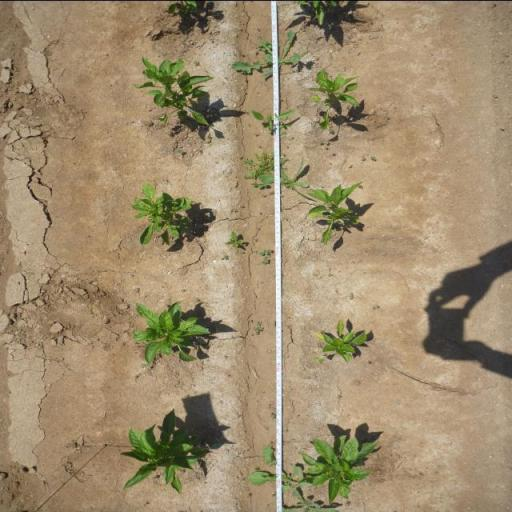plant: (115, 404, 210, 493), (130, 59, 214, 130), (128, 298, 214, 363), (305, 432, 380, 500), (127, 180, 196, 246), (307, 180, 360, 247), (306, 68, 363, 128), (310, 316, 368, 366)
weed: (228, 27, 310, 80), (246, 446, 304, 500), (258, 158, 312, 200), (250, 106, 298, 136), (280, 489, 339, 512), (240, 150, 289, 175), (224, 230, 244, 248), (249, 318, 264, 336), (259, 246, 273, 256), (250, 182, 268, 188), (139, 362, 151, 369), (261, 256, 270, 264), (342, 502, 352, 507), (348, 292, 354, 300), (327, 128, 335, 134), (369, 155, 377, 161), (220, 253, 228, 259), (152, 473, 160, 479), (269, 412, 276, 418), (176, 149, 184, 154), (372, 304, 380, 309), (272, 319, 276, 328), (254, 464, 260, 470), (324, 139, 331, 144), (268, 190, 274, 195), (360, 155, 366, 160), (358, 184, 364, 188)
